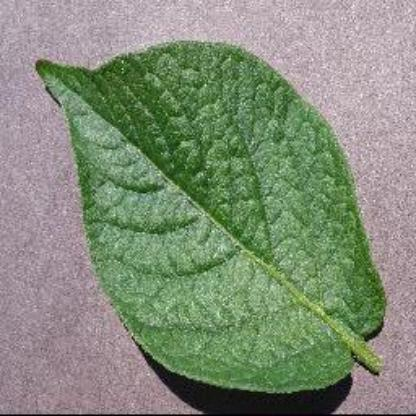Healthy-plant: (21, 28, 395, 400)
